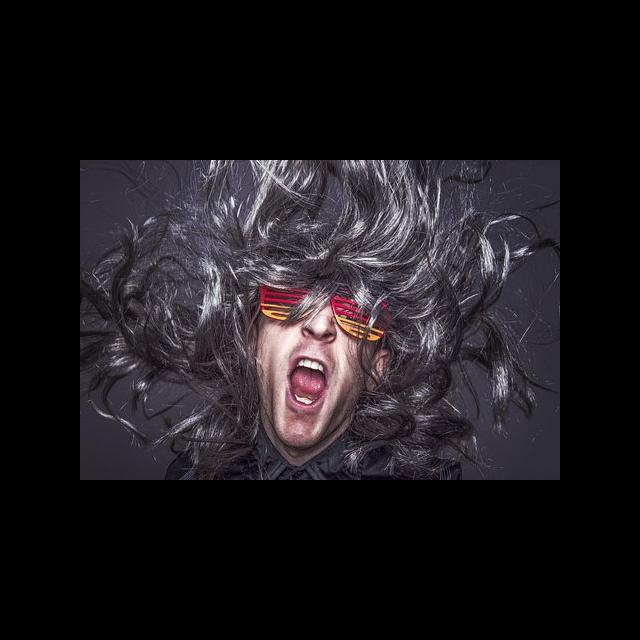male: (194, 168, 460, 461)
